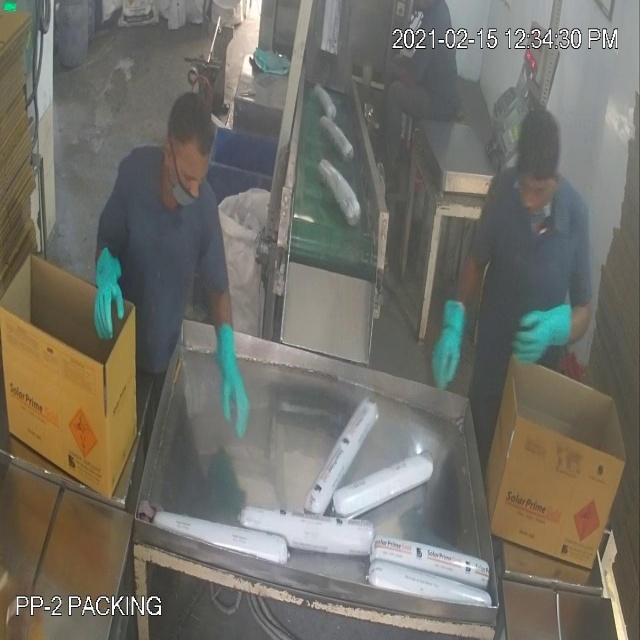Guantes: (503, 292, 595, 376), (418, 284, 478, 407), (82, 228, 136, 354), (212, 294, 251, 453)
